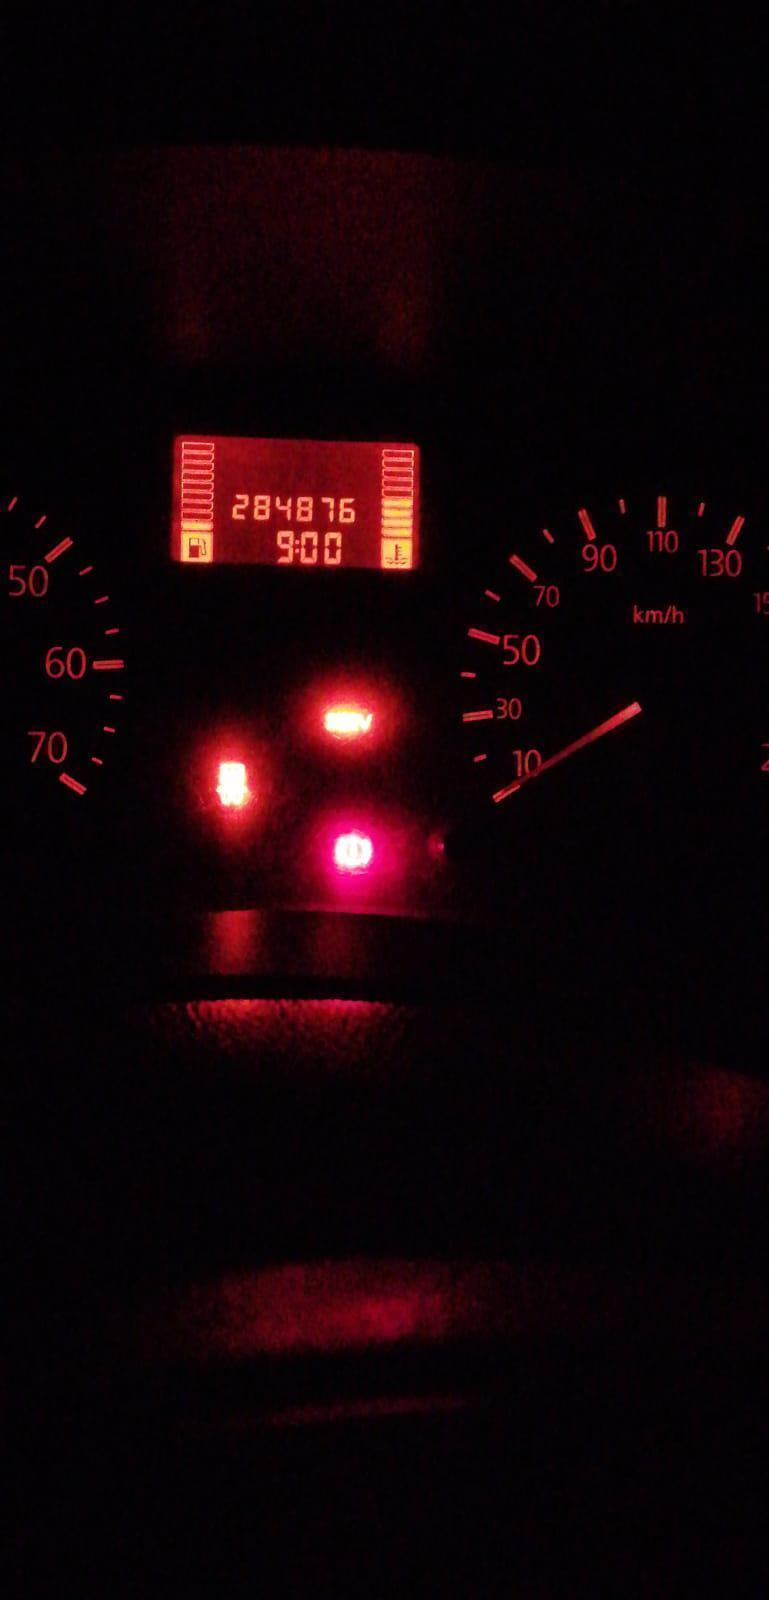0: (322, 531, 343, 565), (300, 530, 318, 565)
2: (230, 493, 249, 520)
4: (274, 495, 292, 521)
6: (337, 497, 356, 524)
7: (319, 496, 336, 522)
8: (252, 494, 271, 521), (295, 495, 314, 522)
9: (274, 529, 295, 565)
X: (294, 538, 300, 554)
odometer: (165, 431, 423, 576)
